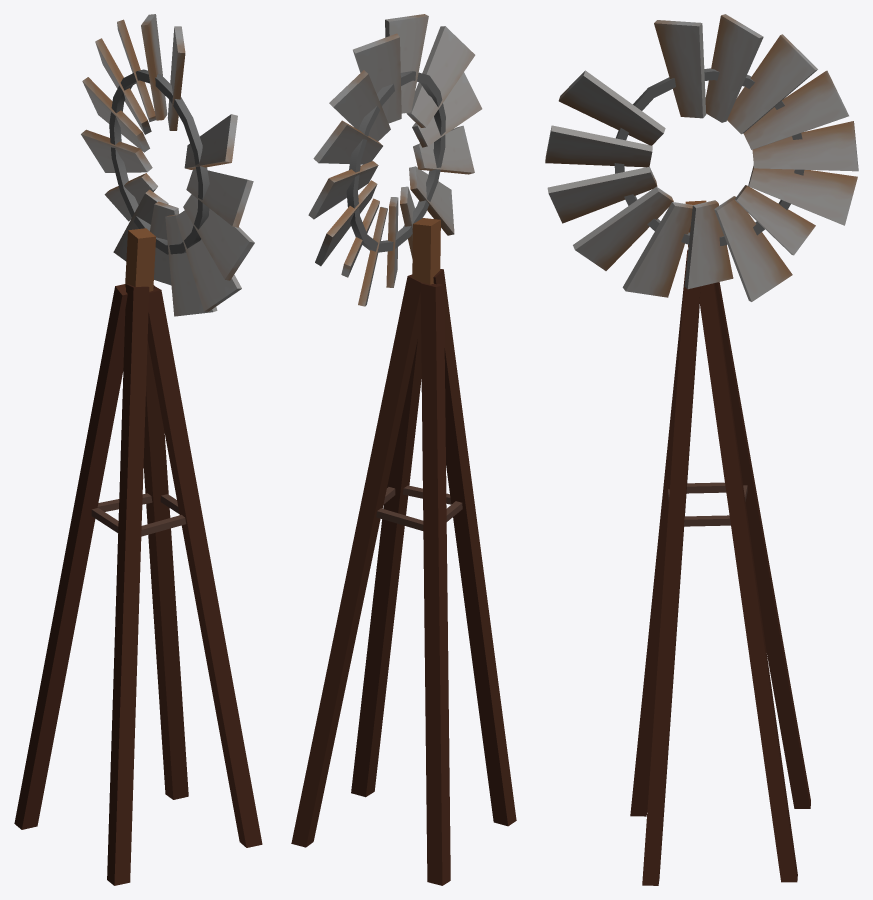
File: windmill.fbx
3 views of the same model, side by side, from view 1: azimuth 30°, elevation 25°; view 2: azimuth 150°, elevation 25°; view 3: azimuth 270°, elevation 25° (orthographic). The views are drawn at different scales.
Parts seen in each view (by area): view 1: polySurface70, polySurface62, polySurface71; view 2: polySurface70, polySurface62, polySurface71; view 3: polySurface62, polySurface70.
Boxes of the visible parts, x1,y1,x2,y2 form: polySurface70: (14,284,262,885); polySurface62: (81,14,254,316); polySurface71: (125,228,155,291); polySurface70: (291,269,516,885); polySurface62: (308,14,482,306); polySurface71: (412,218,440,284); polySurface62: (545,14,858,301); polySurface70: (630,249,810,885).
Size of the model in its own units: 3.36 by 15.57 by 5.31.
